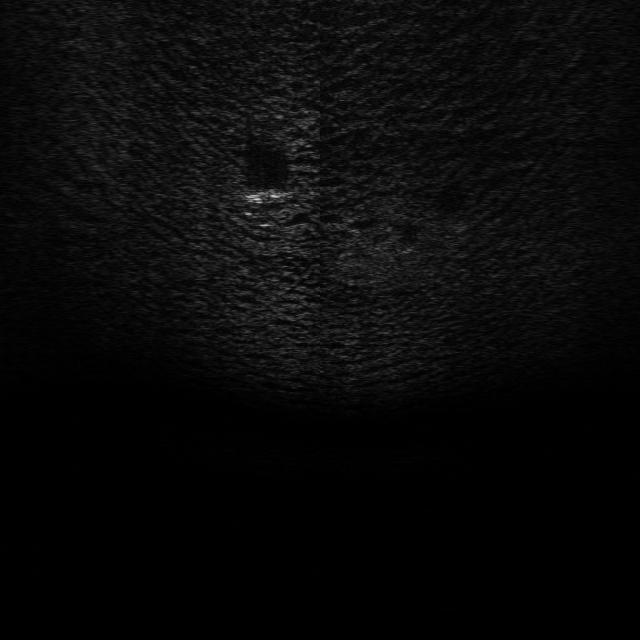plane: (240, 182, 290, 210)
